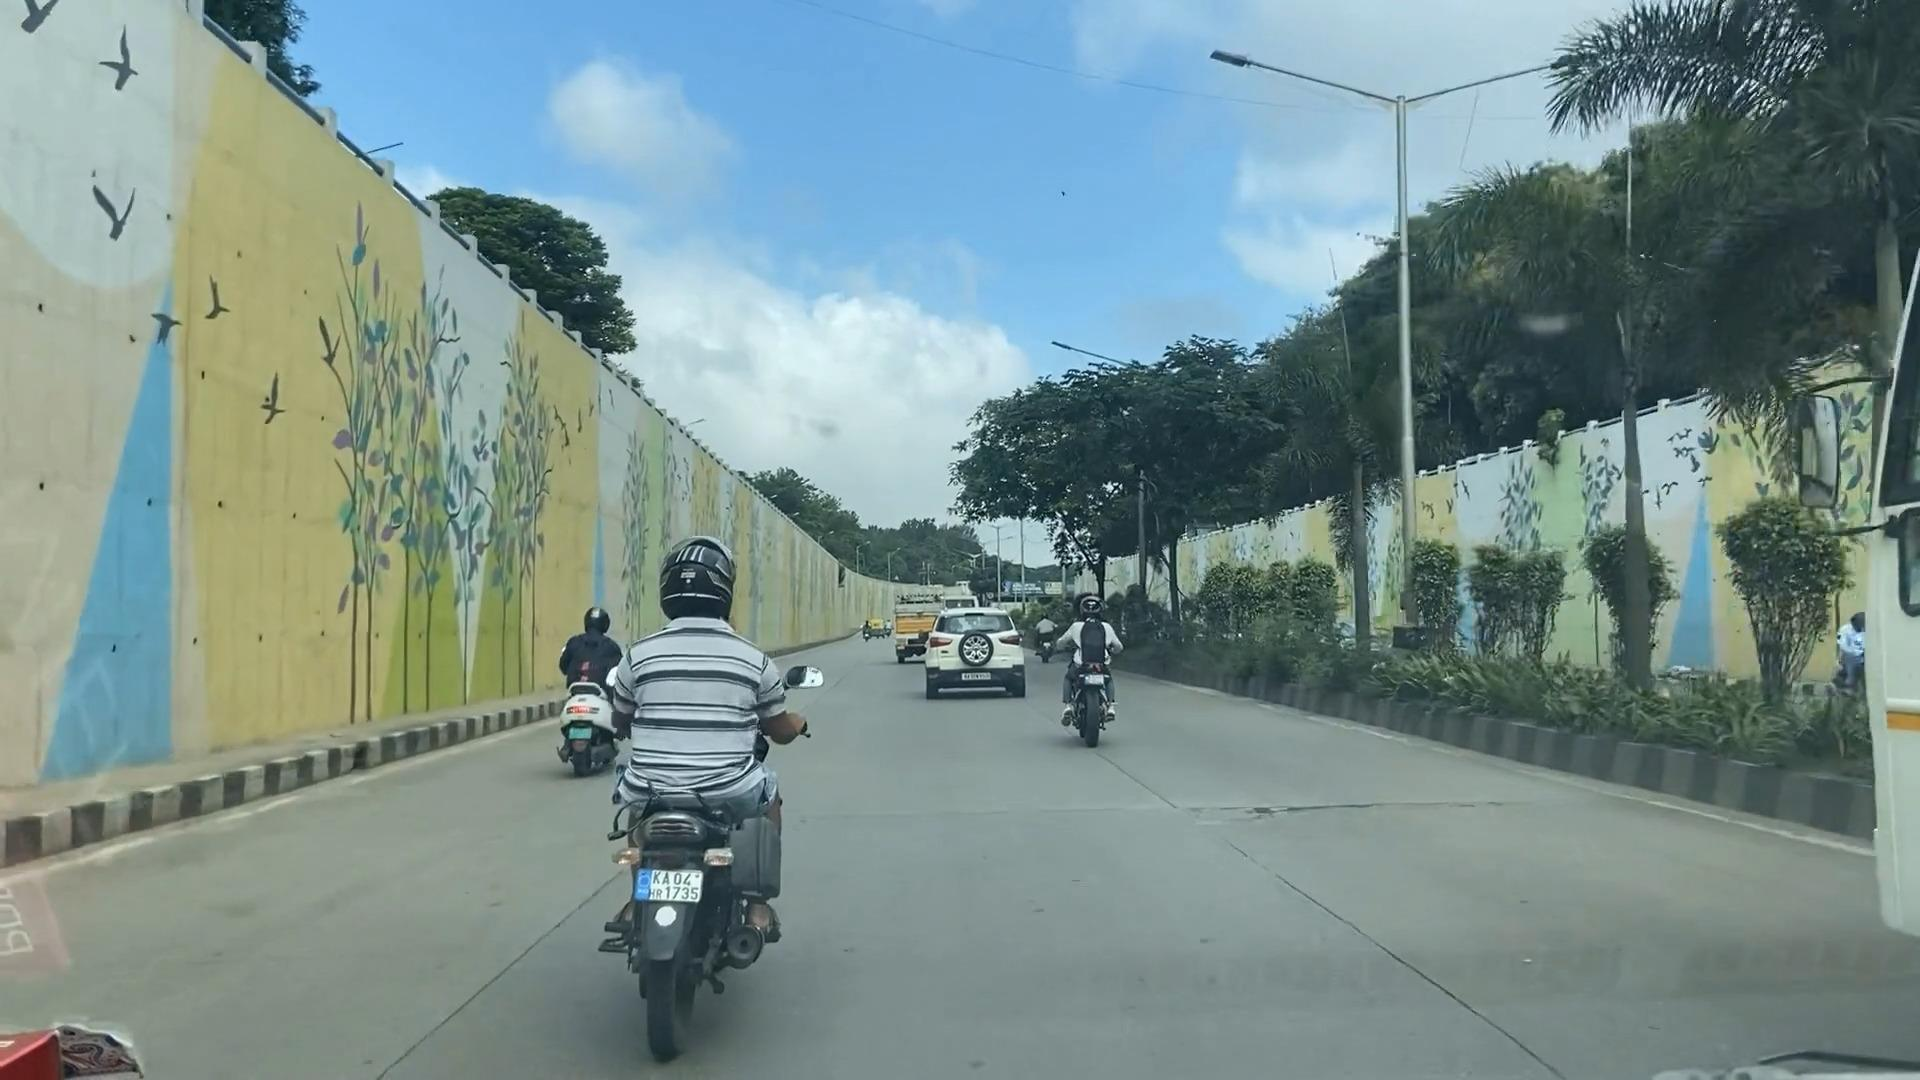LMV: (608, 537, 785, 989), (922, 612, 1021, 708), (1052, 588, 1117, 727)
RoadDamages: (1182, 778, 1539, 833)
